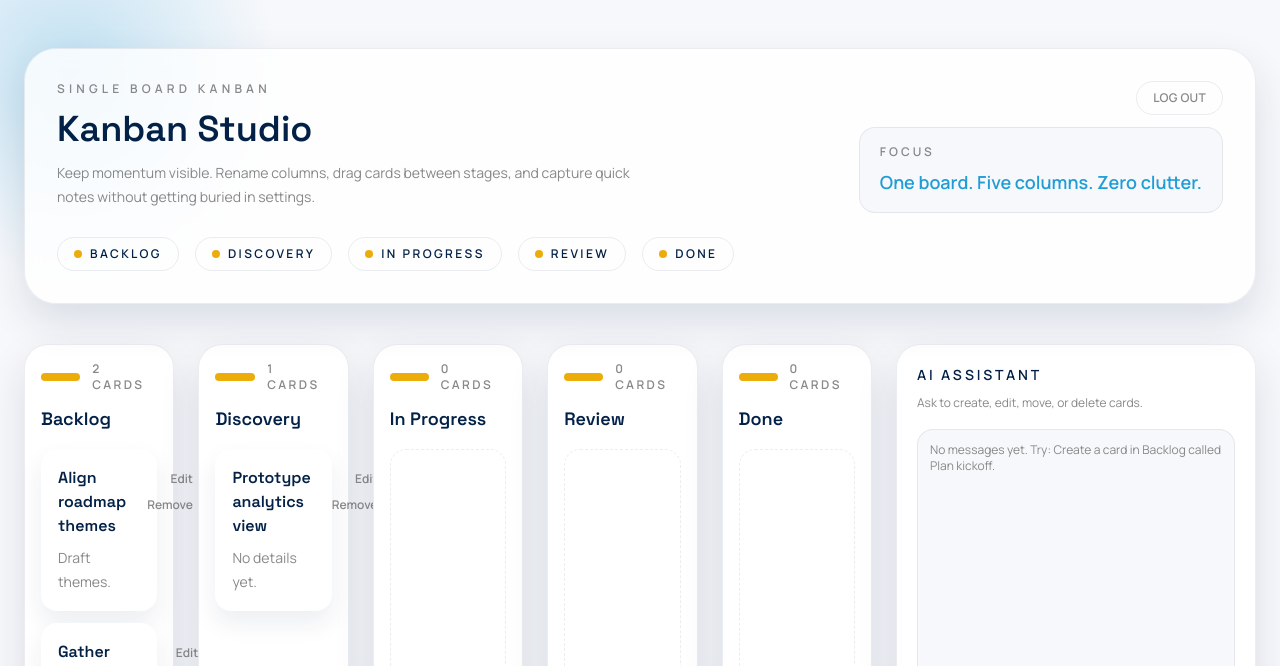
Test case: cards › deletes a card through the API
Click the button with aria-label "delete align roadmap themes" at [170, 505], box [138,492,202,518]
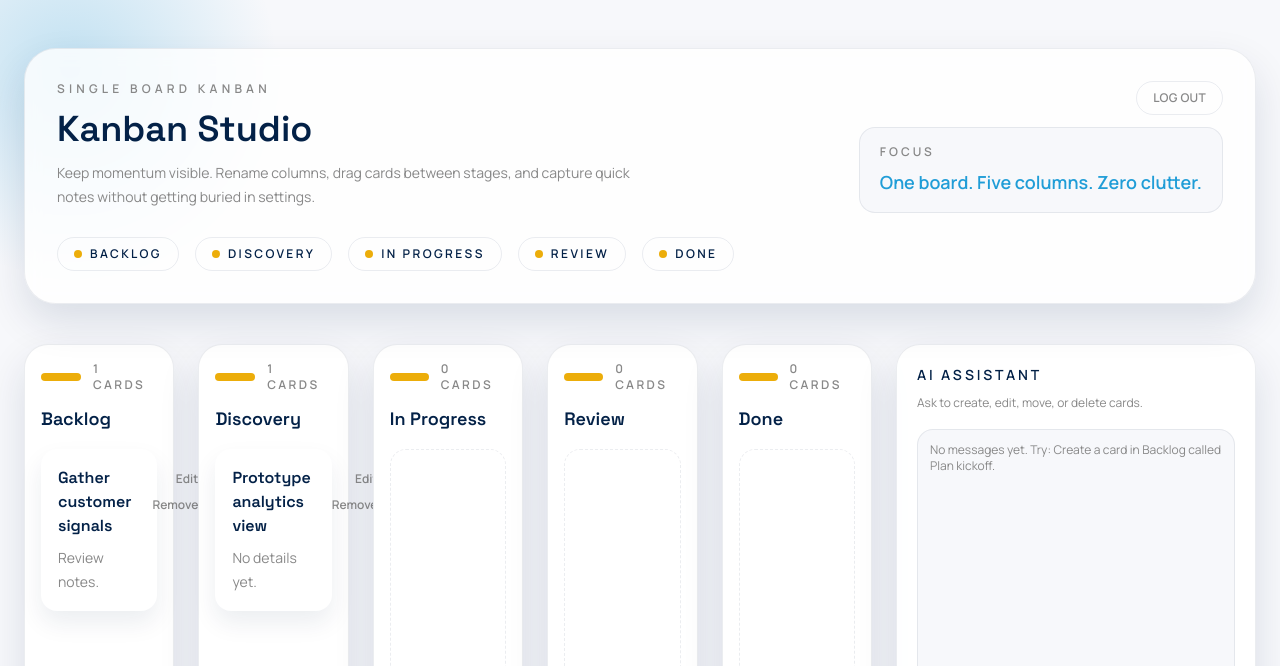
expect the button "Align roadmap themes" is gone: met
